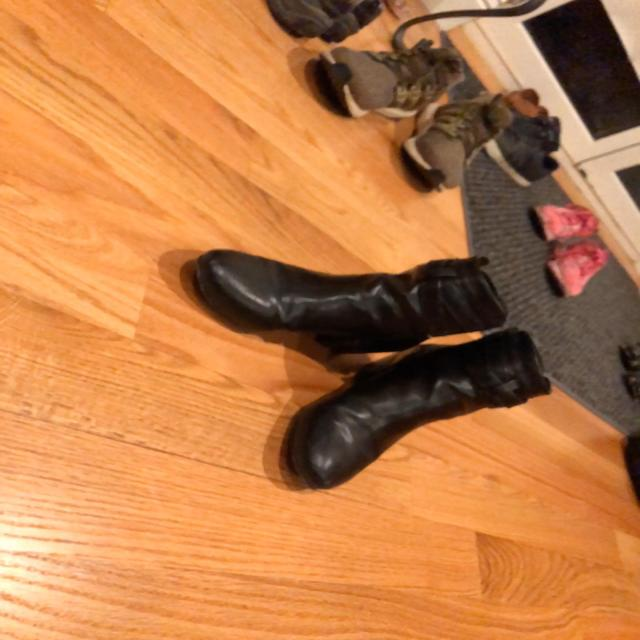shoe: (281, 328, 553, 494), (185, 251, 509, 349)
